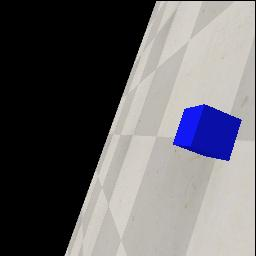box: (173, 104, 242, 161)
